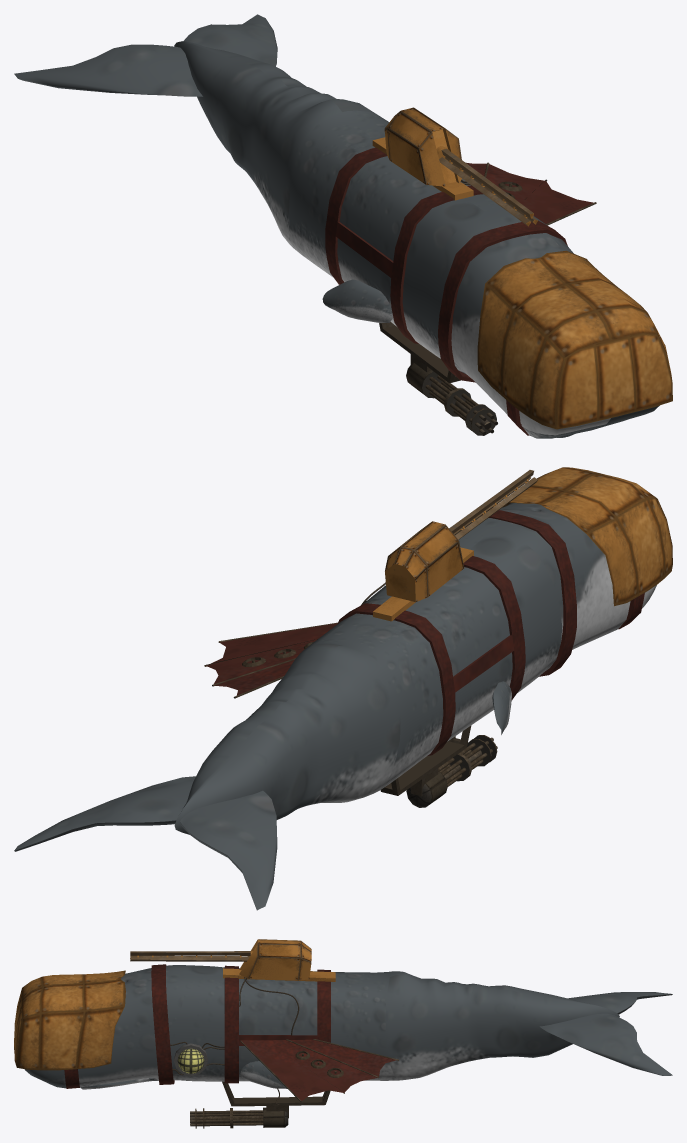
File: bosswhale_Asset_Fixed.fbx
The picture shows the model from 3 angles, top to bottom: view 1: azimuth 30°, elevation 25°; view 2: azimuth 150°, elevation 25°; view 3: azimuth 270°, elevation 25°; orthographic projection. The views are drawn at different scales.
Parts seen in each view (by area): view 1: Body, Armour, Minigun, Railgun; view 2: Body, Armour, Minigun, Railgun; view 3: Body, Armour, Minigun, Railgun.
Part boxes in pixels (x1,y1,x2,y2): Body: [14, 14, 659, 438]; Armour: [325, 107, 672, 435]; Minigun: [406, 362, 497, 435]; Railgun: [436, 146, 537, 226]; Body: [14, 503, 656, 910]; Armour: [204, 467, 672, 796]; Minigun: [406, 735, 497, 807]; Railgun: [449, 470, 537, 539]; Body: [25, 965, 672, 1089]; Armour: [14, 939, 398, 1118]; Minigun: [190, 1107, 288, 1128]; Railgun: [130, 951, 252, 961].
Bounding box in the file's own units: 358 × 298 × 955.
